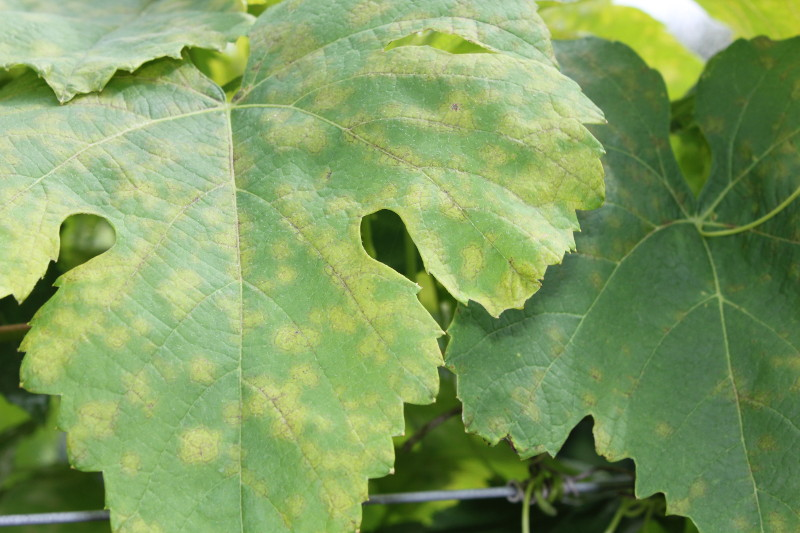downy: (270, 192, 396, 358), (113, 165, 274, 255), (62, 112, 341, 149), (1, 110, 55, 259), (46, 264, 152, 334), (264, 75, 349, 160), (248, 360, 321, 445), (502, 118, 597, 180), (385, 92, 483, 145), (326, 366, 394, 439), (24, 334, 111, 388), (485, 66, 575, 116), (400, 294, 439, 405), (305, 450, 361, 525), (498, 185, 533, 300), (260, 20, 325, 77), (66, 395, 117, 458), (443, 1, 515, 43), (158, 260, 211, 317), (539, 182, 576, 257), (174, 423, 228, 464), (515, 362, 553, 419), (668, 469, 714, 512), (426, 204, 453, 277), (182, 350, 230, 390), (115, 364, 157, 408), (610, 47, 643, 102), (584, 359, 617, 412), (718, 370, 756, 413), (581, 235, 608, 287), (460, 237, 491, 282), (764, 353, 800, 391), (349, 1, 400, 25), (117, 496, 150, 532), (538, 319, 570, 351), (598, 418, 623, 454), (662, 299, 691, 325), (646, 418, 677, 442), (477, 413, 508, 437), (113, 453, 143, 475), (728, 506, 752, 533), (777, 134, 797, 165), (764, 510, 789, 533)
